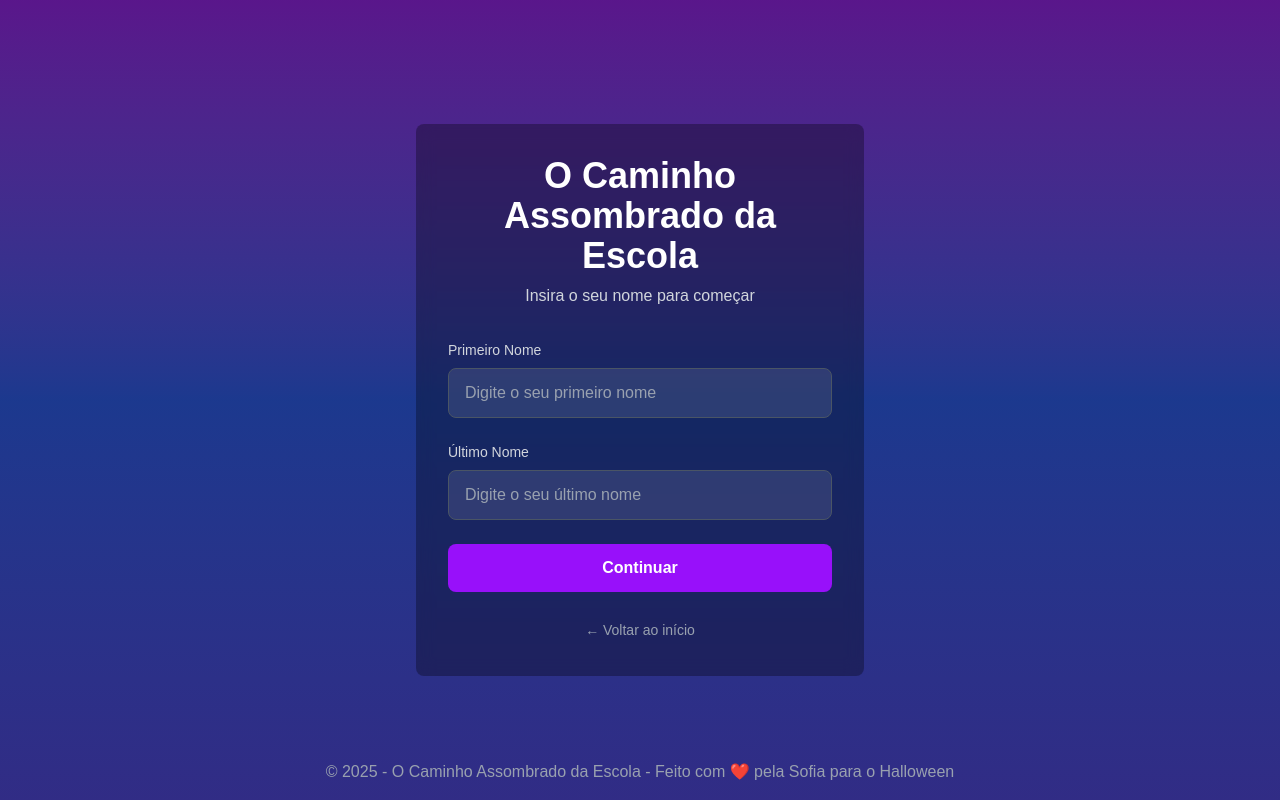
it: NomePage › shows validation error when only last name is filled
The width and height of the screenshot is (1280, 800).
Type "Silva" into the field labelled "Último Nome" at coordinates (640, 495), box [448,470,832,520]
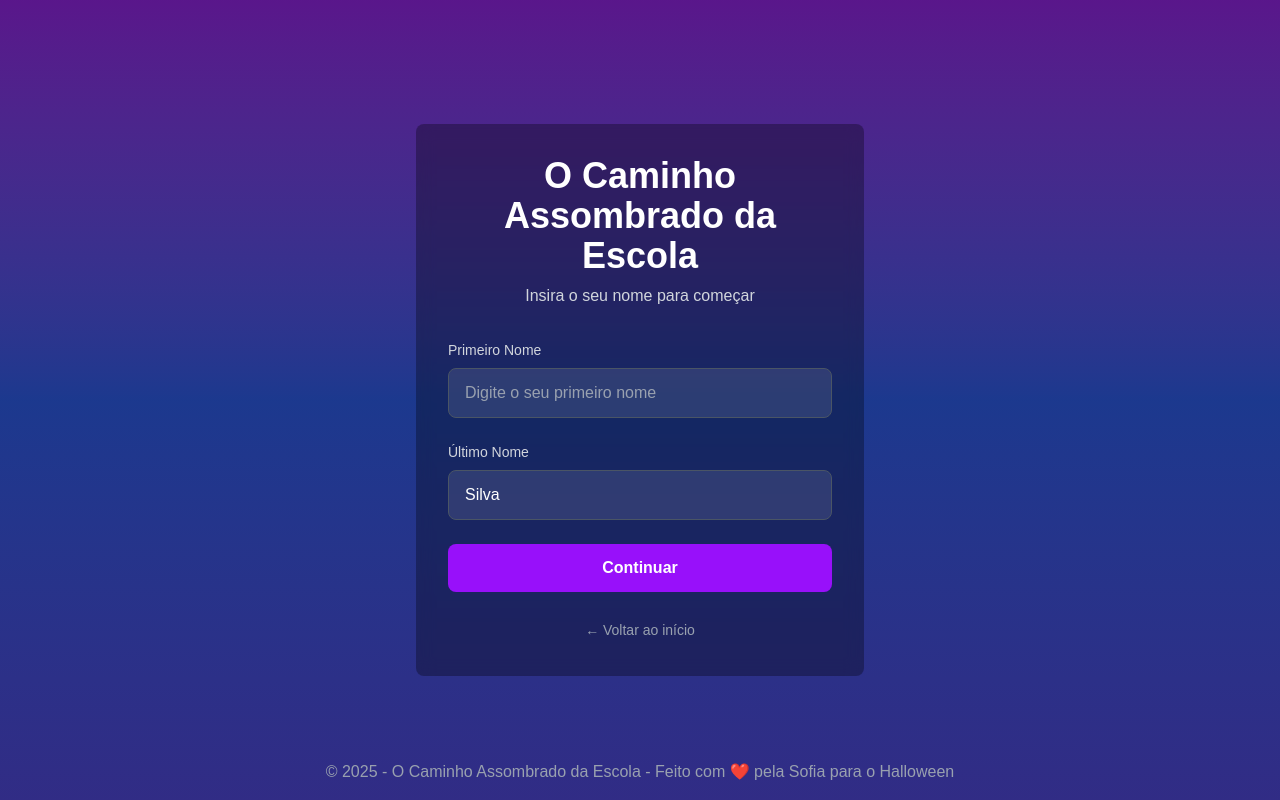
Click the button "Continuar" at coordinates (640, 568), box [448,544,832,592]
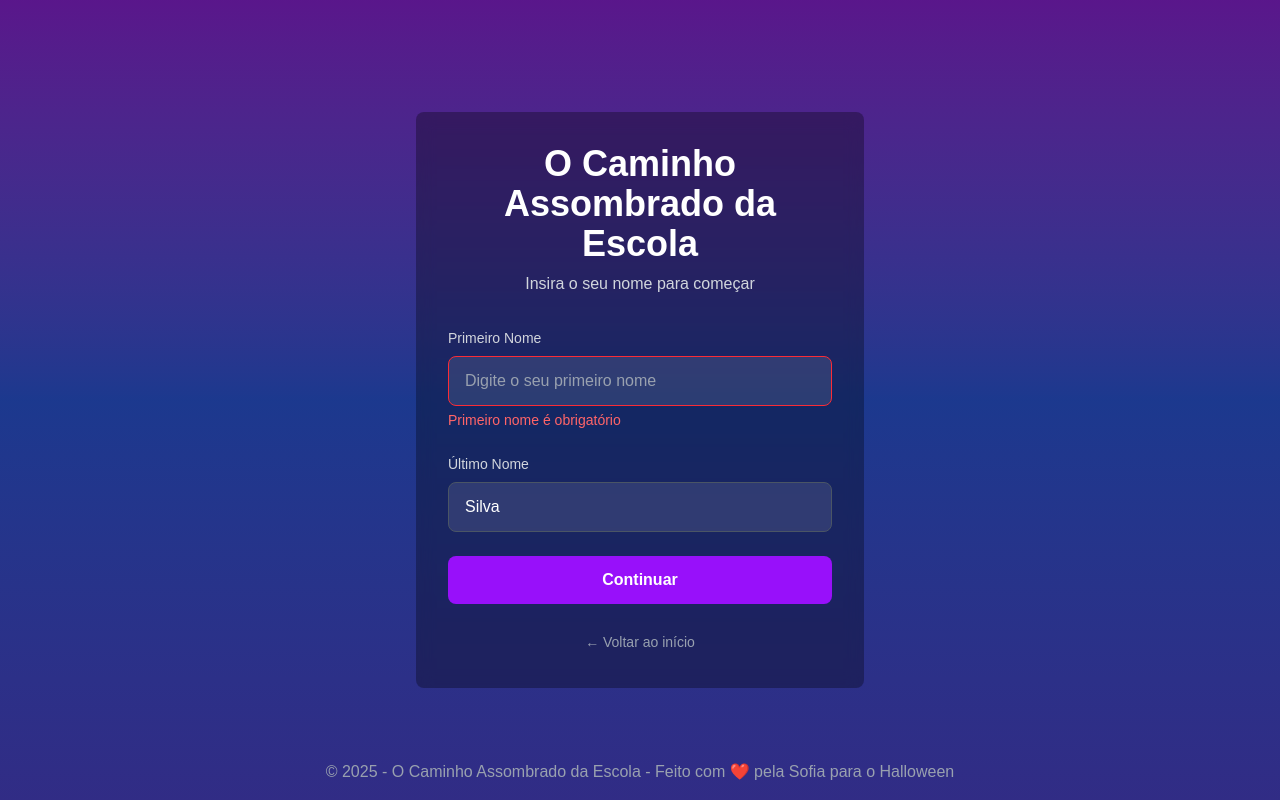
Now the text "Primeiro nome é obrigatório" is shown, box [448,412,621,428]
